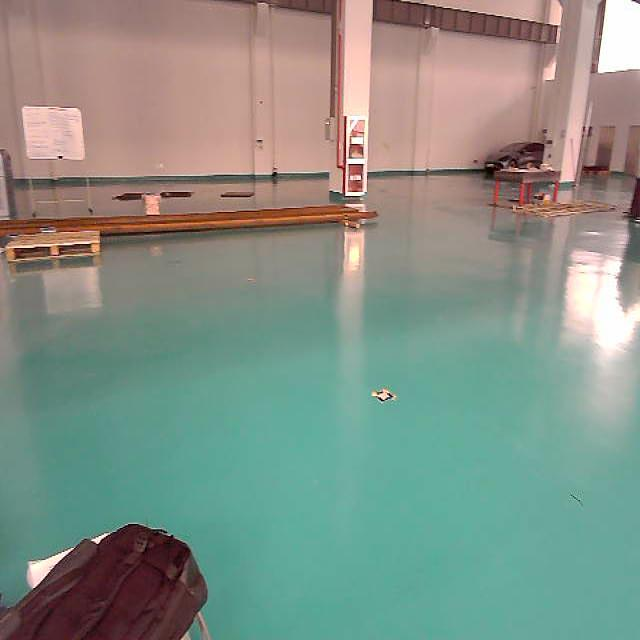euro: (4, 218, 100, 272)
